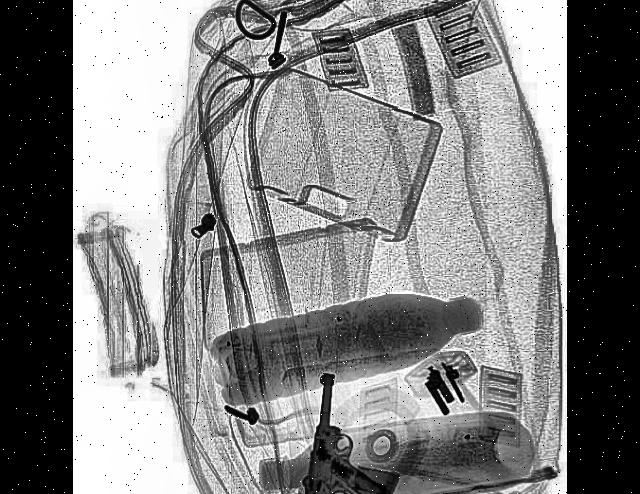Gun: (299, 369, 410, 494)
